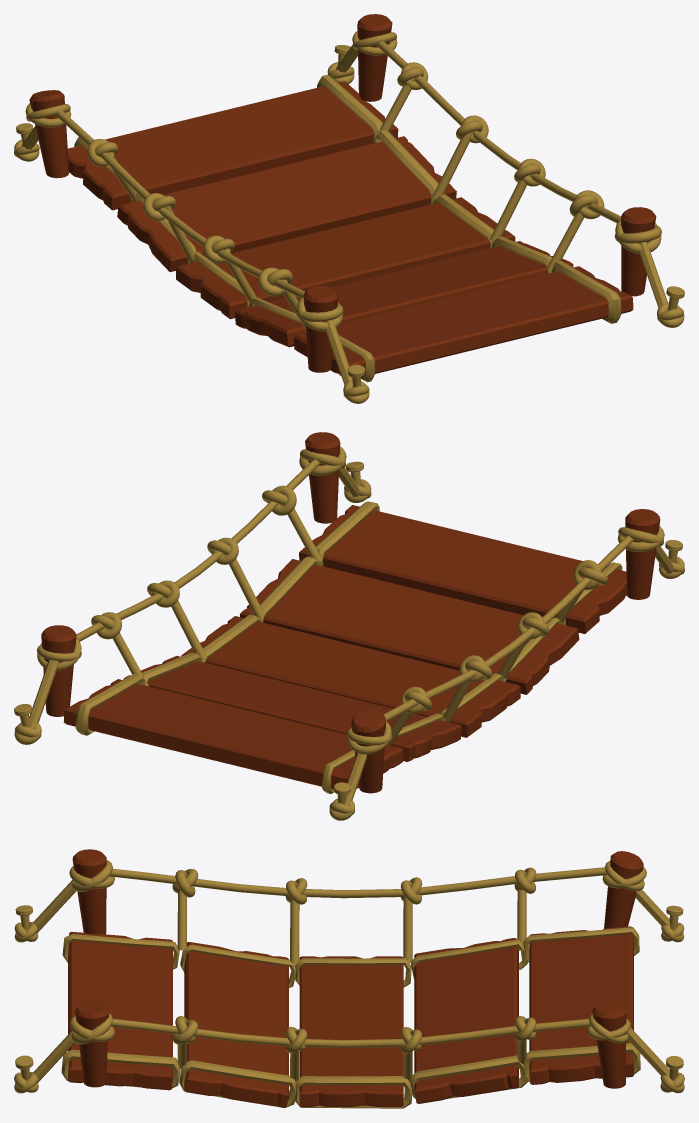
File: F_SwingBridge.fbx
The picture shows the model from 3 angles, top to bottom: view 1: azimuth 30°, elevation 25°; view 2: azimuth 150°, elevation 25°; view 3: azimuth 270°, elevation 25°; orthographic projection. The views are drawn at different scales.
Visible parts, largest first — view 1: Line053; view 2: Line053; view 3: Line053.
Boxes of the visible parts, left/top/right/bottom form: Line053: left=14, top=14, right=684, bottom=403; Line053: left=14, top=432, right=684, bottom=820; Line053: left=14, top=849, right=684, bottom=1108.
Bounding box in the file's own units: 352 × 113 × 580.
